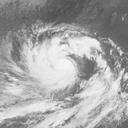cyclone: (25, 27, 79, 90)
